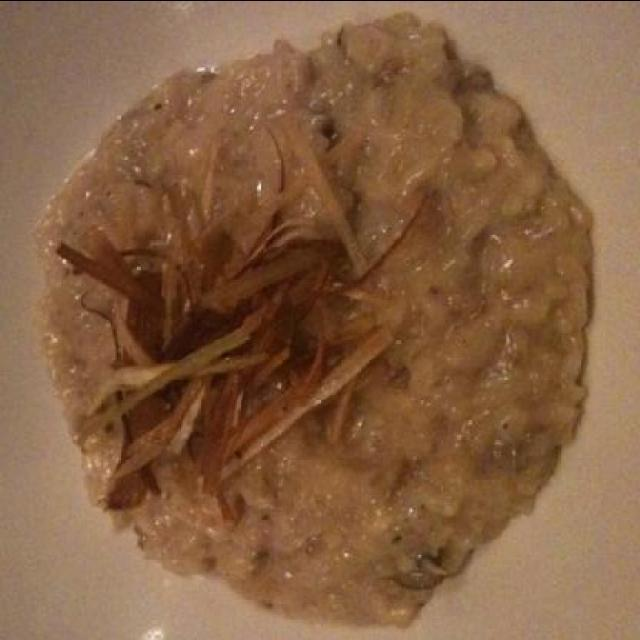Risotto: (26, 39, 588, 610)
